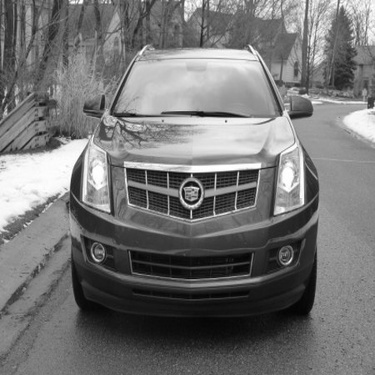car: (44, 37, 327, 327), (273, 81, 309, 102)
